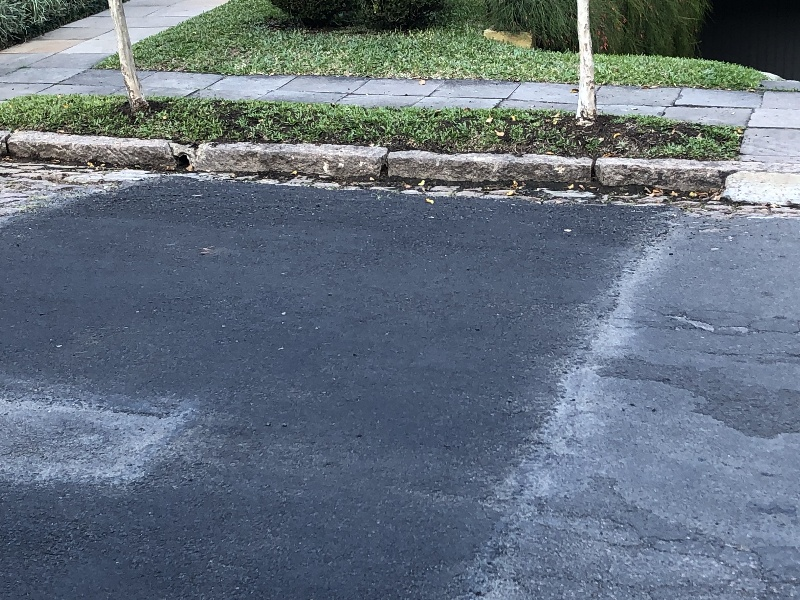v19: (5, 93, 725, 249)
